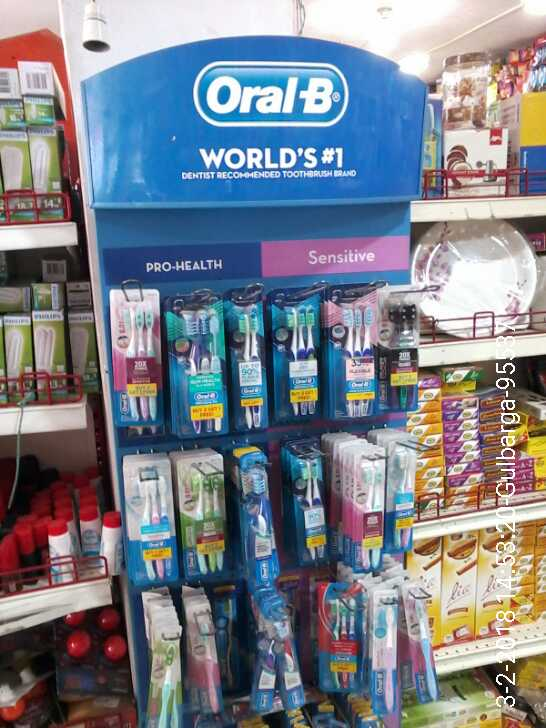oralb: (165, 289, 226, 443), (116, 455, 181, 590), (107, 292, 168, 425), (270, 283, 326, 424), (329, 281, 382, 423), (179, 450, 233, 579), (377, 286, 427, 417), (399, 579, 448, 712), (227, 291, 270, 436), (314, 581, 366, 698), (288, 449, 337, 567), (240, 453, 279, 593), (259, 599, 306, 713), (182, 598, 226, 715), (369, 583, 404, 720), (349, 445, 387, 570), (384, 438, 419, 557), (146, 621, 183, 728)
